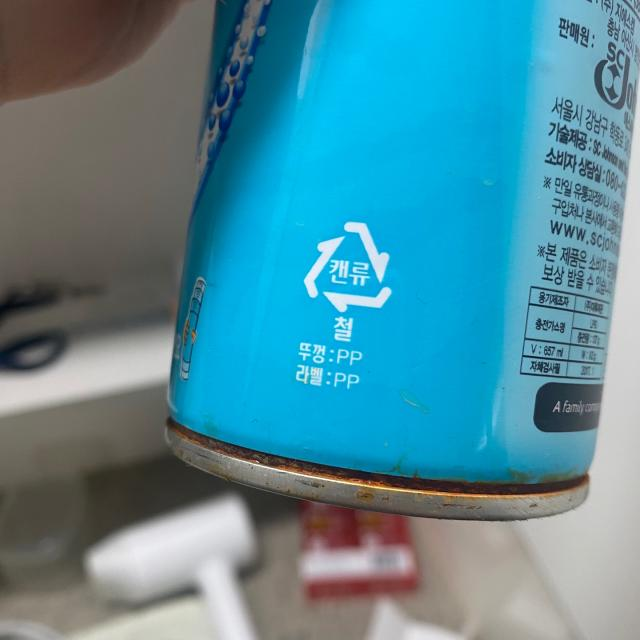Can: (300, 218, 398, 314)
